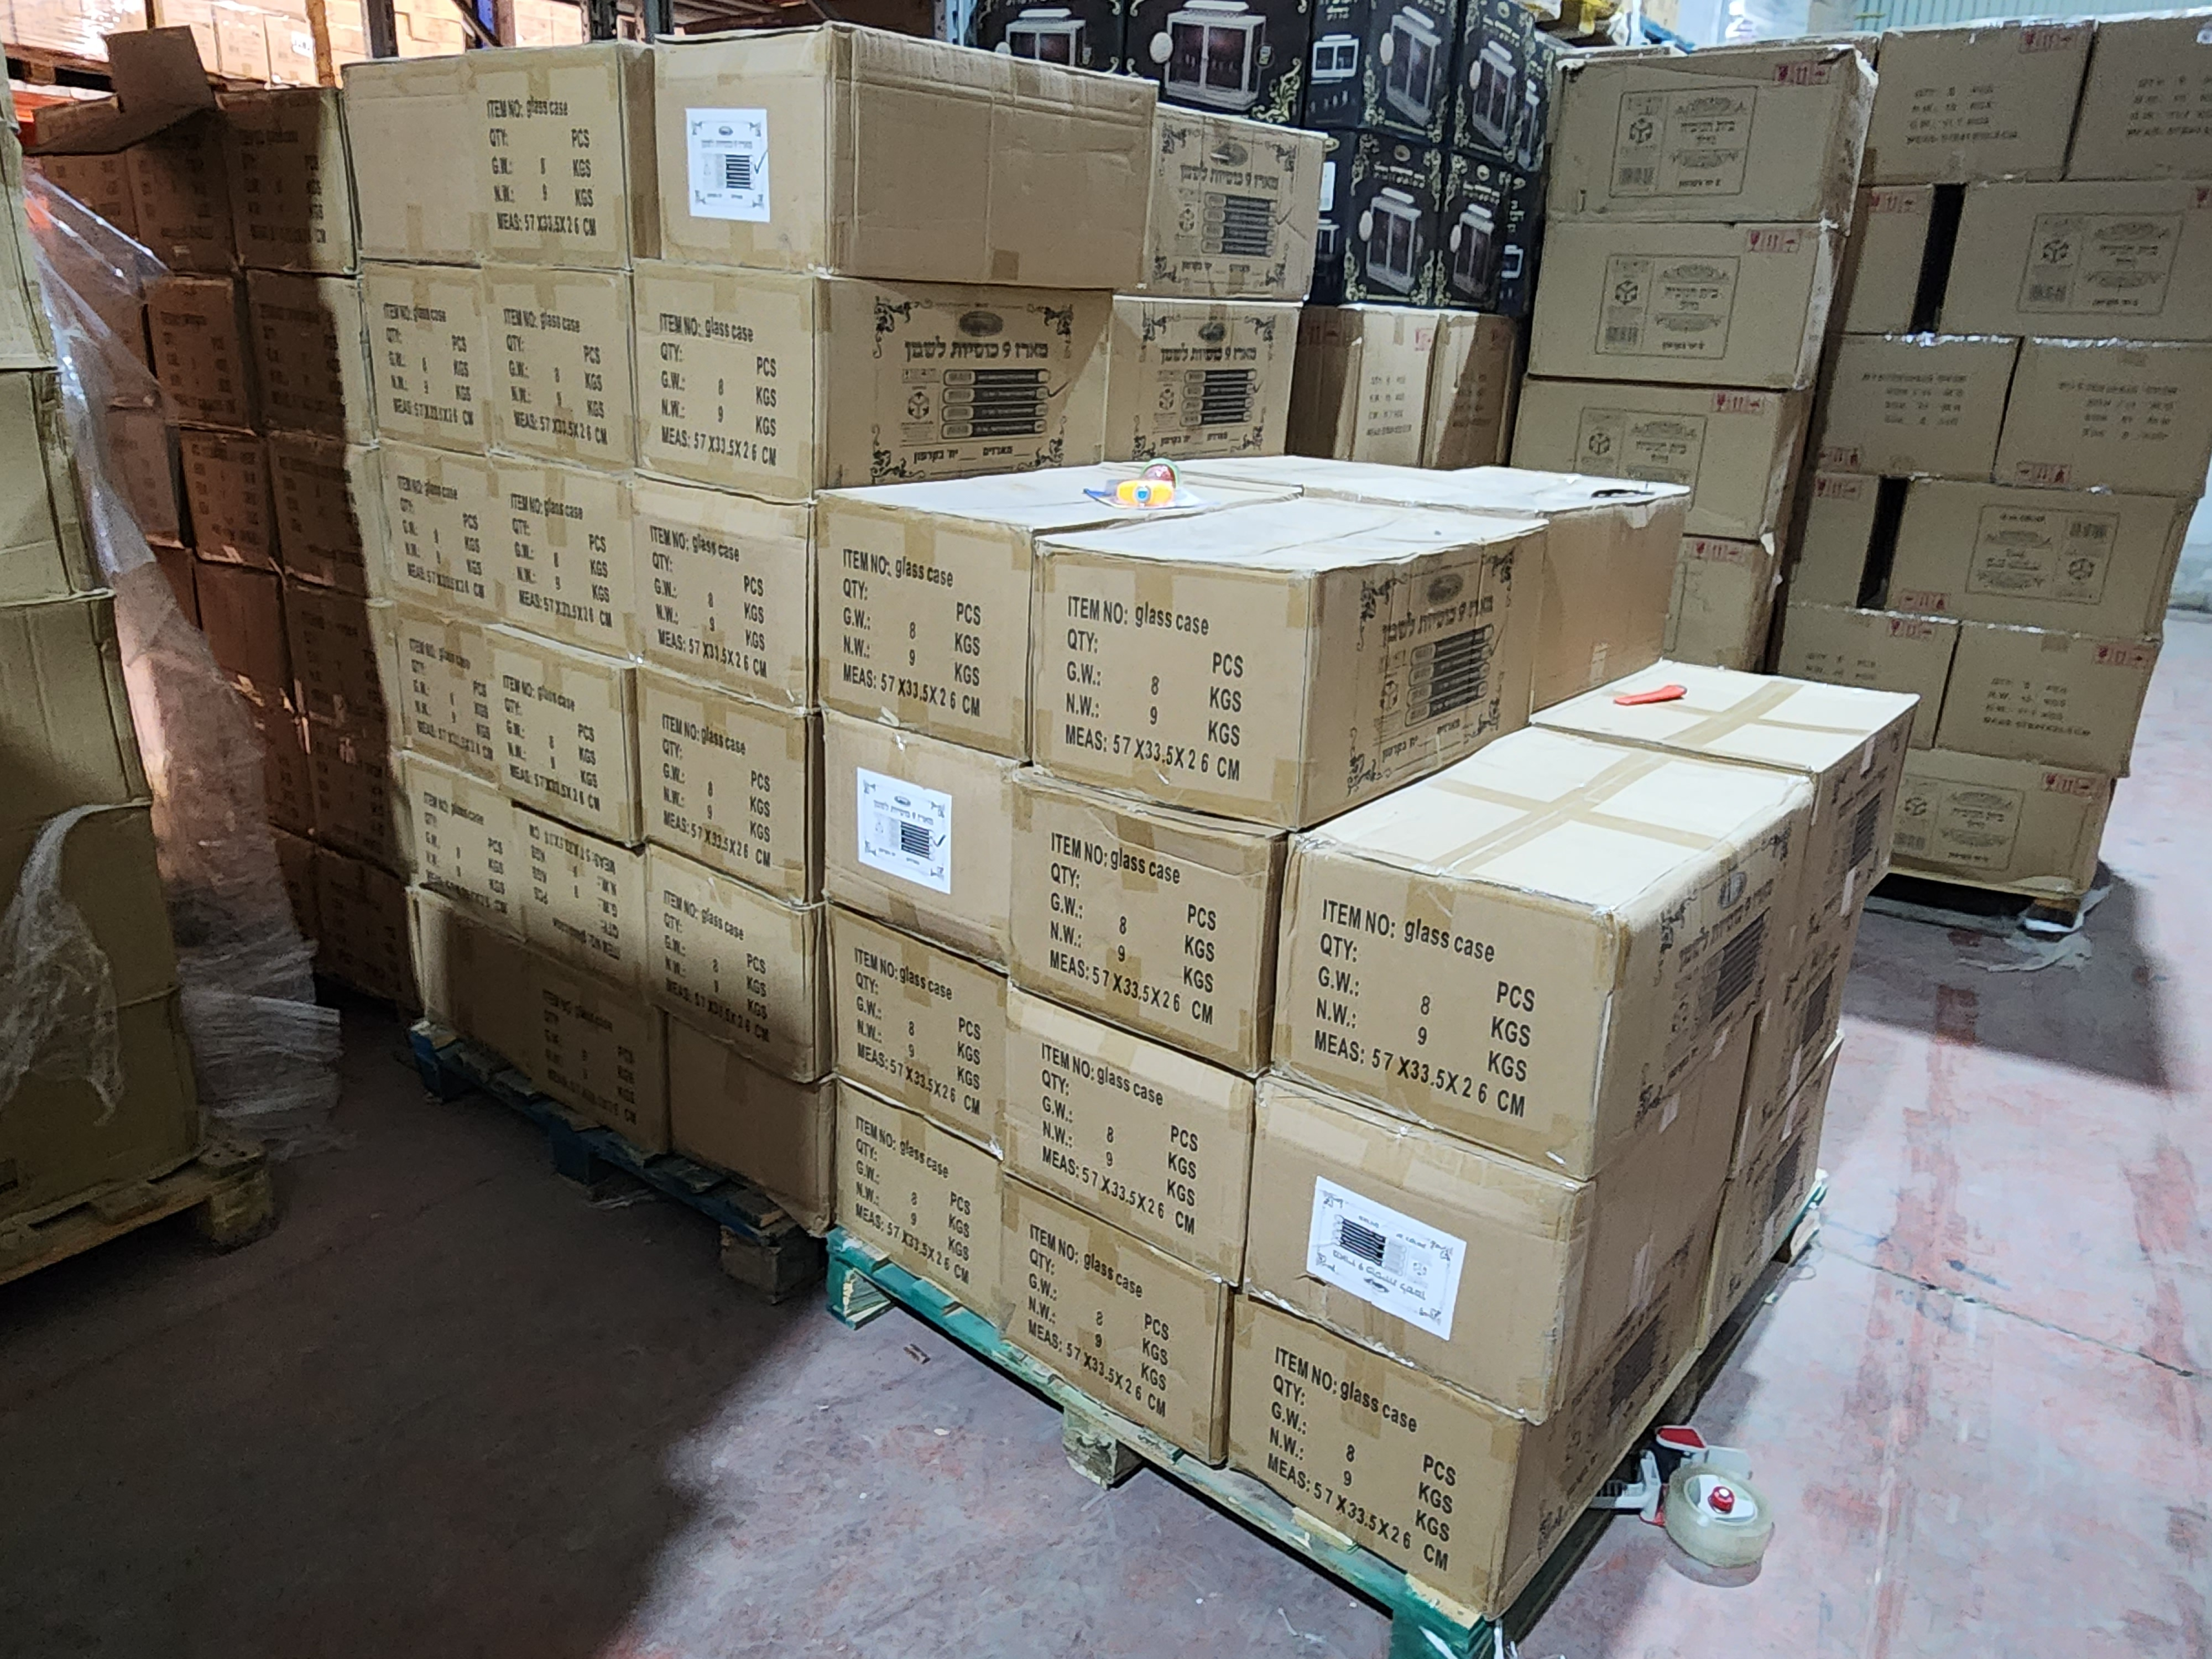box: (1256, 823, 1831, 1180), (1254, 1063, 1766, 1415), (1219, 1276, 1731, 1591), (611, 12, 1172, 295), (1040, 544, 1568, 819), (617, 246, 1134, 521), (982, 765, 1282, 1105), (397, 863, 679, 1190), (1001, 953, 1242, 1307), (1829, 310, 2212, 507), (322, 45, 646, 268), (1003, 1161, 1231, 1464), (347, 267, 655, 476), (1881, 716, 2186, 924), (1552, 42, 1850, 240), (812, 483, 1028, 756), (813, 1054, 998, 1368), (1534, 218, 1851, 394), (1515, 373, 1825, 552), (806, 678, 1010, 950), (629, 842, 840, 1098), (371, 437, 625, 647), (1892, 467, 2196, 629), (1937, 601, 2191, 795), (643, 1014, 840, 1263), (1952, 174, 2212, 356), (631, 451, 812, 702), (347, 566, 514, 802), (1869, 14, 2078, 197), (1312, 288, 1526, 451), (484, 615, 646, 831), (113, 254, 277, 457), (489, 793, 641, 985), (1780, 579, 1961, 735)
